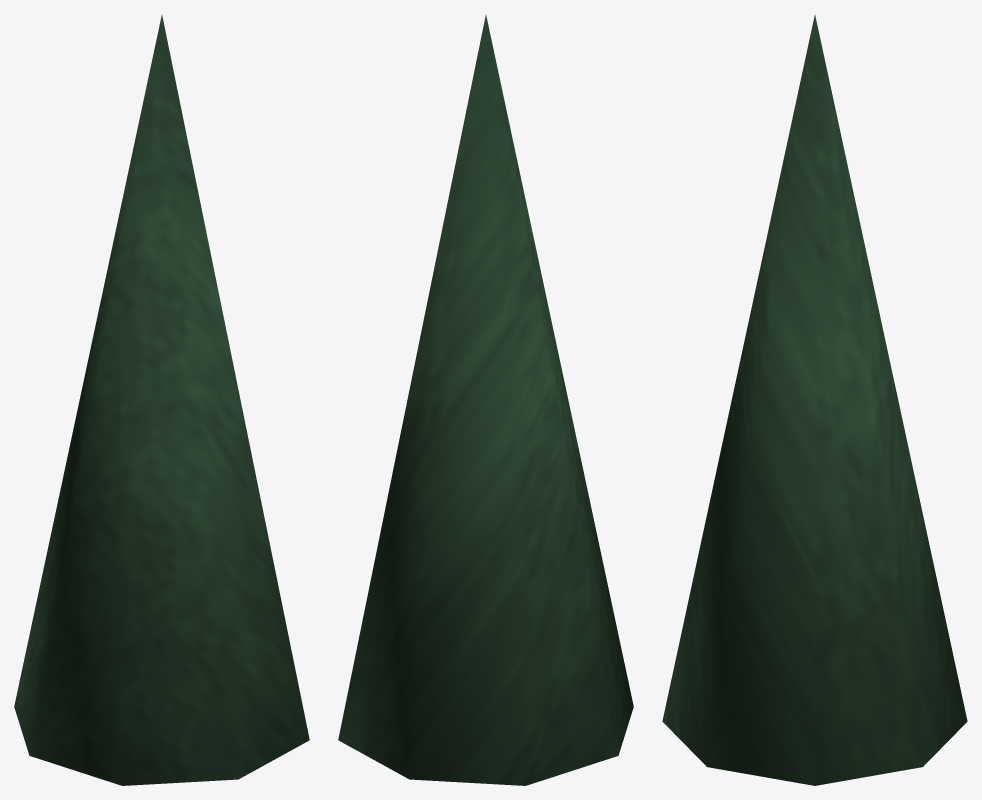
File: 1_far.fbx
The picture shows the model from 3 angles, left to right: view 1: azimuth 30°, elevation 25°; view 2: azimuth 150°, elevation 25°; view 3: azimuth 270°, elevation 25°; orthographic projection.
Visible parts, largest first — view 1: Tree_1_far; view 2: Tree_1_far; view 3: Tree_1_far.
Part boxes in pixels (left/top/right/bottom): Tree_1_far: left=14, top=15, right=309, bottom=785; Tree_1_far: left=338, top=15, right=633, bottom=785; Tree_1_far: left=662, top=15, right=967, bottom=785.
Size of the model in its own units: 4 by 10.23 by 4.
1 material, 1 textured.
